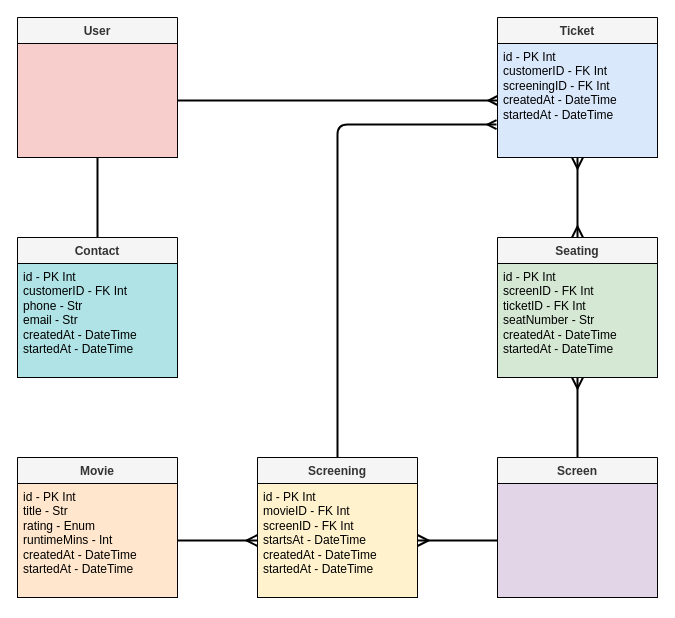
This 675x618 diagram has some shape labels left out. The centre of each missing label's shape, as x and y in pixels:
id - PK Int name - Str createdAt - DateTime startedAt - DateTime: point (97, 100)
id - PK Int number - Int createdAt - DateTime startedAt - DateTime: point (577, 540)
